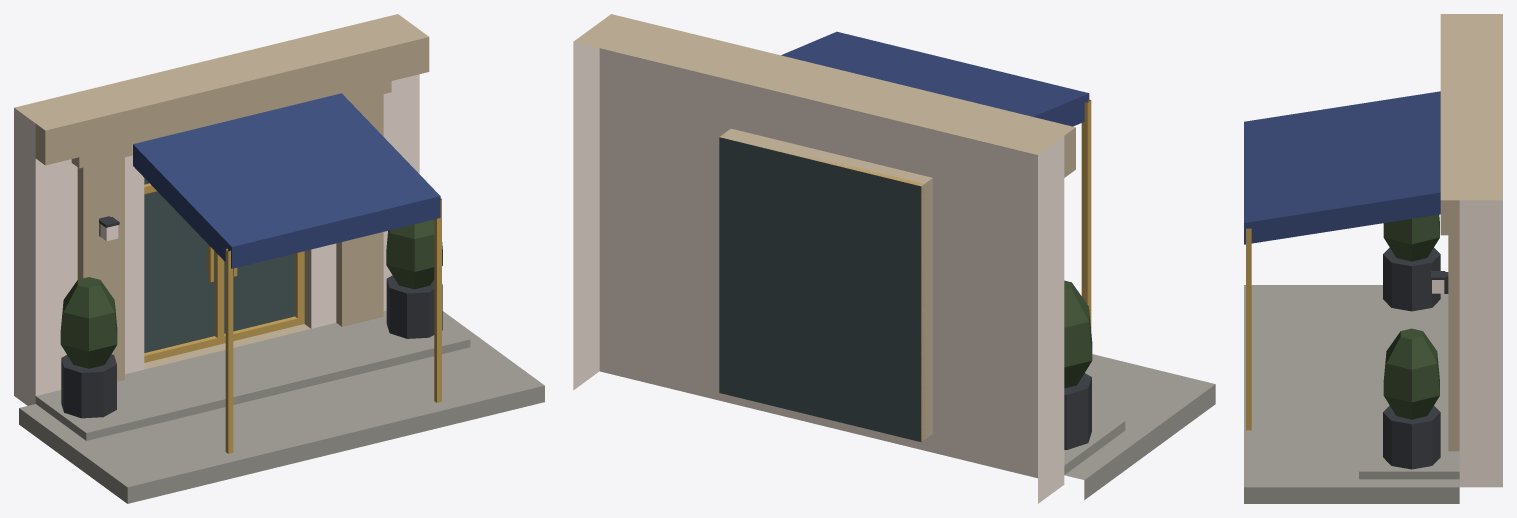
The model's file is entrance_close.fbx.
3 renders of one model, left to right at view 1: azimuth 30°, elevation 25°; view 2: azimuth 150°, elevation 25°; view 3: azimuth 270°, elevation 25°, orthographic. The views are drawn at different scales.
Parts seen in each view (by area): view 1: a2019/250/entrance_close; view 2: a2019/250/entrance_close; view 3: a2019/250/entrance_close.
Part boxes in pixels (x1,y1,x2,y2): a2019/250/entrance_close: (14, 14, 544, 503); a2019/250/entrance_close: (573, 14, 1215, 503); a2019/250/entrance_close: (1244, 14, 1502, 503).
Bounding box in the file's own units: 5 × 3.4 × 2.7.
